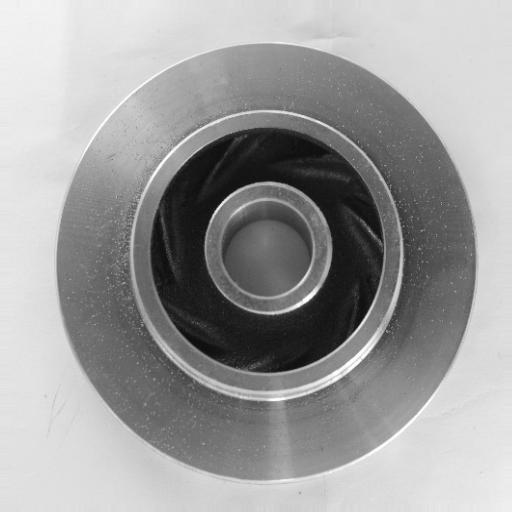polished_casting: (52, 41, 478, 485)
